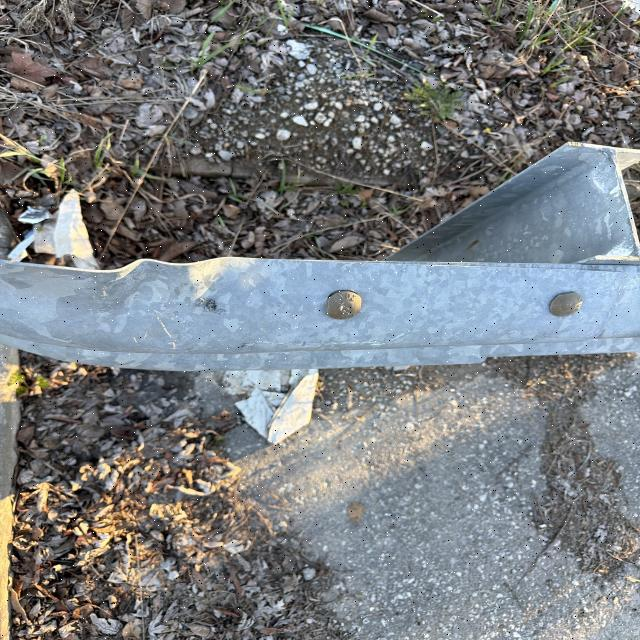Guard rail: (43, 170, 640, 359)
